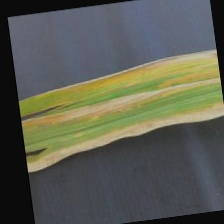Leaf_Blast: (24, 76, 224, 128)
